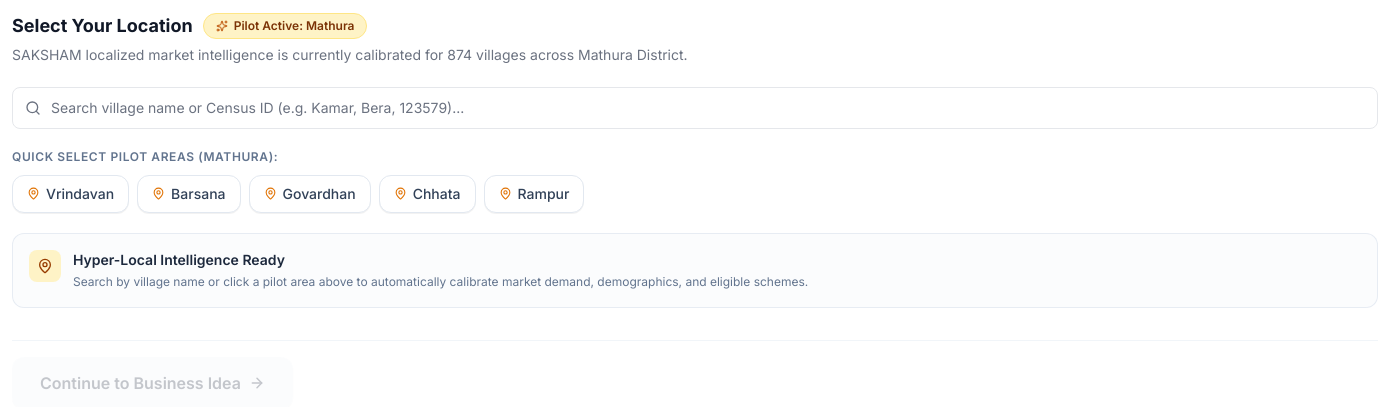
Test: StepLocation — search and selection › shows search results after typing a matching query for real village
The image size is (1390, 407).
Type "Bera" into the dropdown.
click(708, 108); type("Bera")  # box [51,98,1365,118]
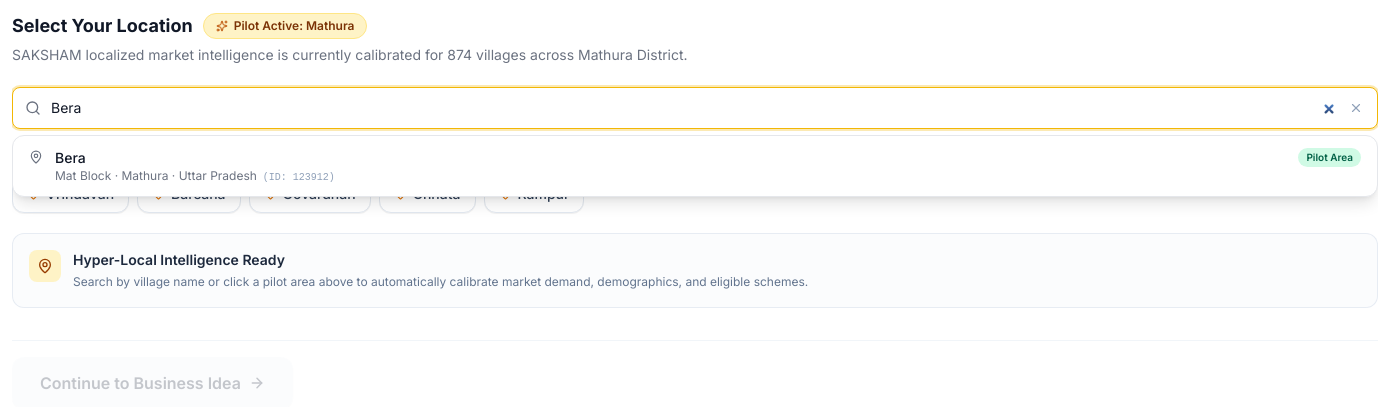
Result: the text "Bera" is shown at [55,149,86,166]
Result: the text "Mat Block · Mathura · Uttar Pradesh(ID: 123912)" is shown at [55,168,335,184]
Result: the text "(ID: 123912)" is shown at [263,172,335,183]
